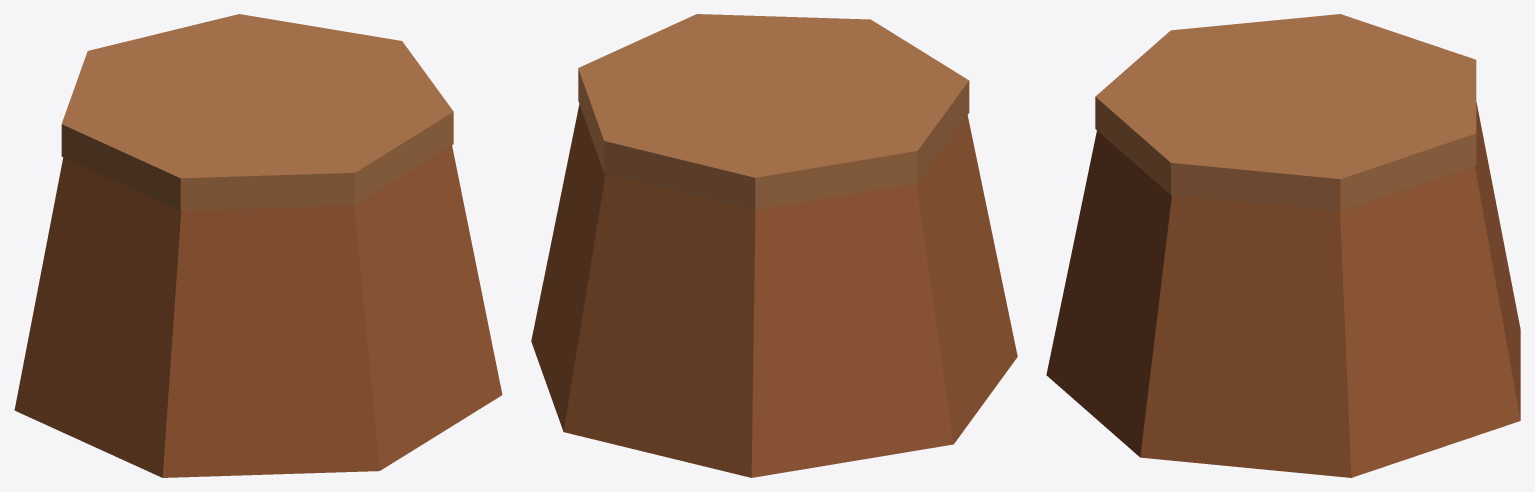
Rendered from mesa.glb.
The picture shows the model from 3 angles, left to right: view 1: azimuth 30°, elevation 25°; view 2: azimuth 150°, elevation 25°; view 3: azimuth 270°, elevation 25°; orthographic projection.
Visible parts, largest first — view 1: Mesa; view 2: Mesa; view 3: Mesa.
Boxes of the visible parts, left/top/right/bottom form: Mesa: left=14, top=14, right=502, bottom=477; Mesa: left=531, top=14, right=1017, bottom=477; Mesa: left=1046, top=14, right=1520, bottom=477.
Size of the model in its own units: 5.46 by 3.45 by 5.32.
